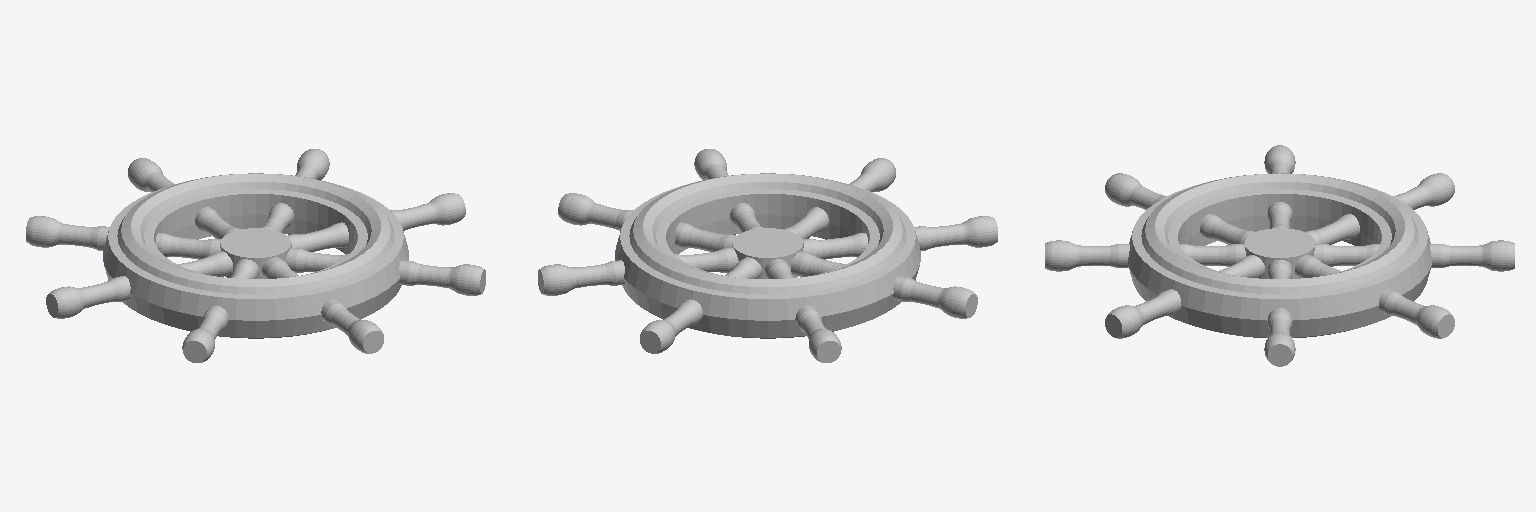
File: WheelModel.obj
The picture shows the model from 3 angles: view 1: azimuth 30°, elevation 25°; view 2: azimuth 150°, elevation 25°; view 3: azimuth 270°, elevation 25°; orthographic projection.
Parts seen in each view (by area): view 1: Torus, Torus.001, Cylinder.003, Cylinder.006, Cylinder.001, Cylinder.005, Cylinder.004; view 2: Torus, Torus.001, Cylinder.005, Cylinder.006, Cylinder.001, Cylinder.003, Cylinder.004; view 3: Torus, Torus.001, Cylinder.001, Cylinder.003, Cylinder.005, Cylinder.006, Cylinder.004.
Part boxes in pixels (x1,y1,x2,y2): Torus: (103, 182, 408, 337); Torus.001: (117, 173, 394, 338); Cylinder.003: (26, 216, 485, 295); Cylinder.006: (46, 193, 465, 318); Cylinder.001: (128, 158, 383, 353); Cylinder.005: (182, 149, 329, 362); Cylinder.004: (220, 228, 291, 278); Torus: (615, 182, 920, 337); Torus.001: (629, 173, 906, 338); Cylinder.005: (538, 216, 997, 295); Cylinder.006: (558, 193, 977, 318); Cylinder.001: (640, 158, 895, 353); Cylinder.003: (694, 149, 841, 362); Cylinder.004: (732, 228, 803, 278); Torus: (1127, 182, 1432, 337); Torus.001: (1141, 173, 1418, 337); Cylinder.001: (1045, 240, 1514, 271); Cylinder.003: (1105, 173, 1454, 338); Cylinder.005: (1105, 173, 1454, 338); Cylinder.006: (1264, 145, 1295, 366); Cylinder.004: (1244, 228, 1315, 278).
Size of the model in its own units: 3.3 by 0.458 by 3.3.